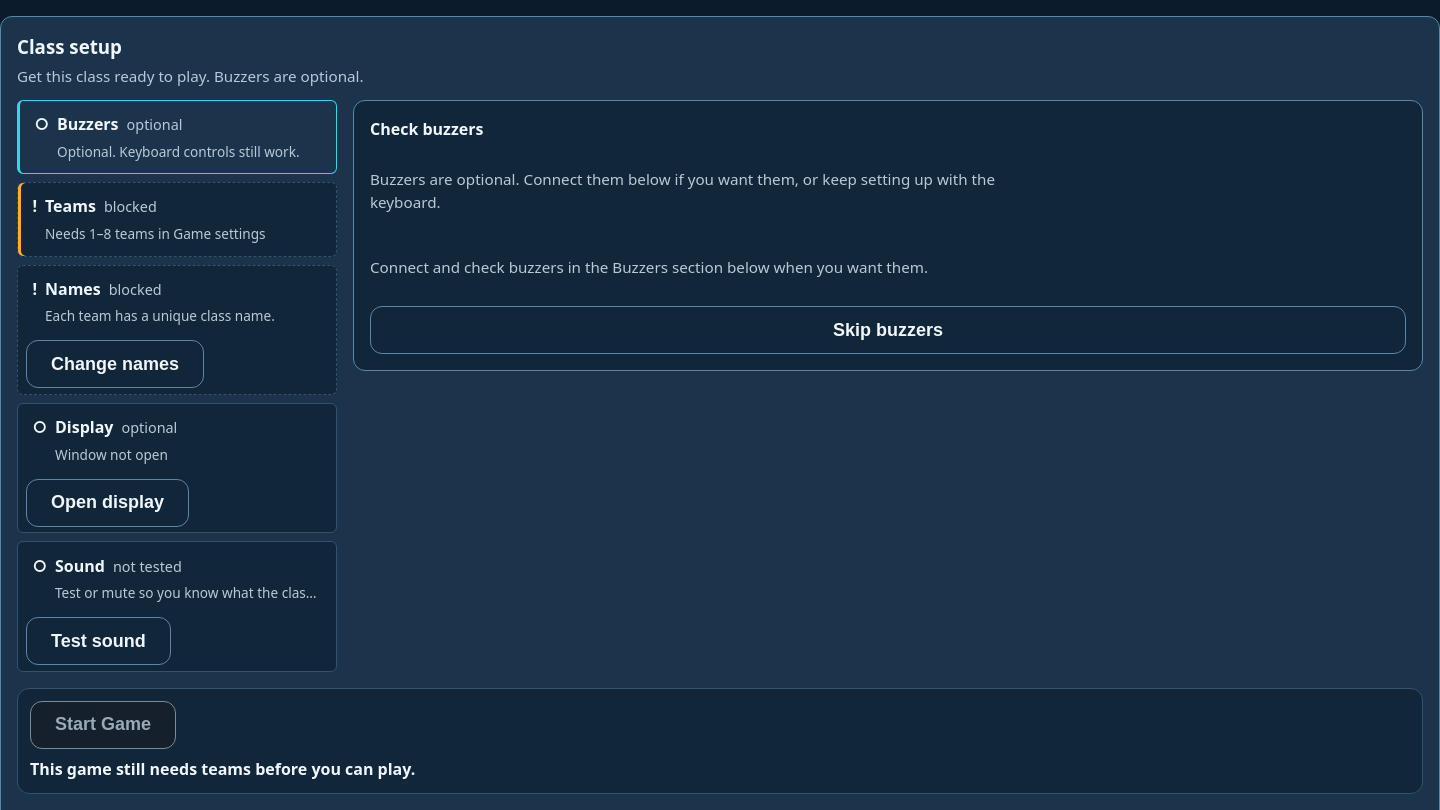
Test: ClassroomSetupPanel › keeps Fix team count primary when Teams are blocked (0-team repair)
This screenshot has width=1440, height=810.
Click the button with test id "readiness-teams" at [70, 206], box [26,189,328,250]
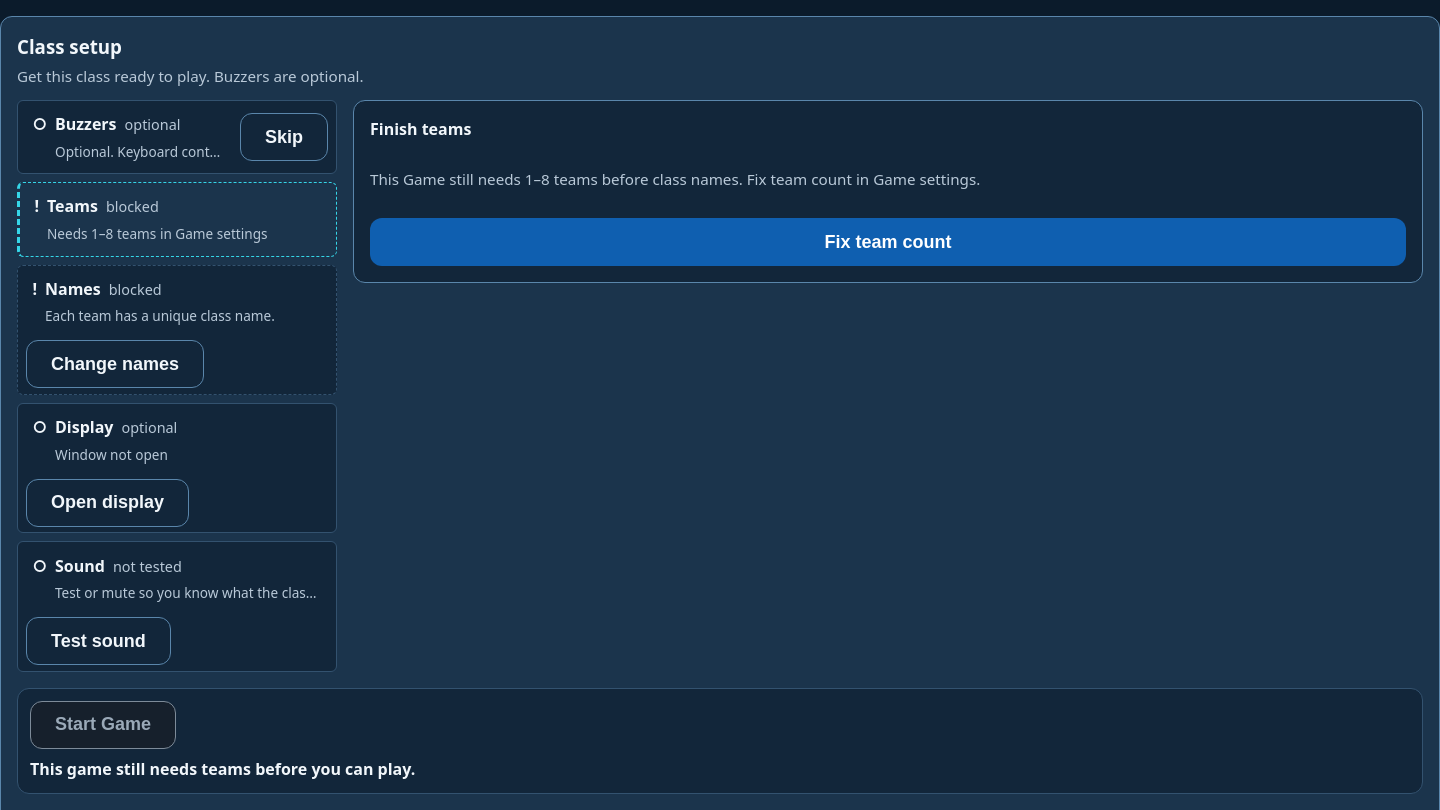
Expected: the button with test id "setup-fix-team-count" reads "Fix team count", [370,218,1406,266]
